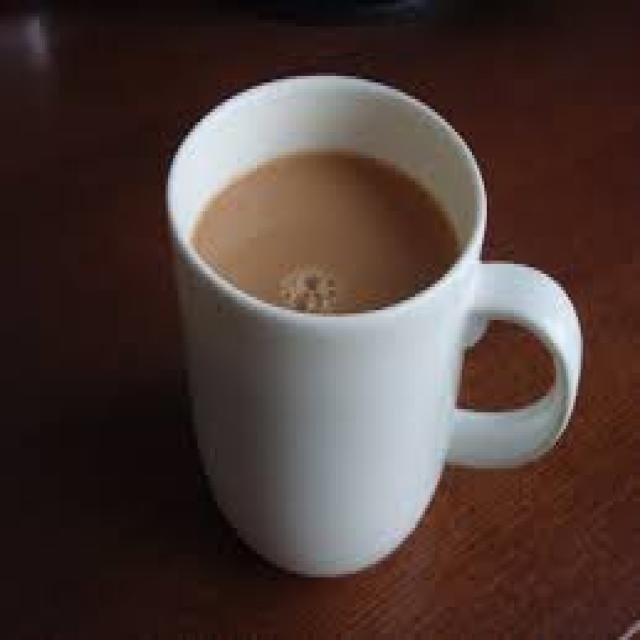taza: (148, 55, 594, 603)
